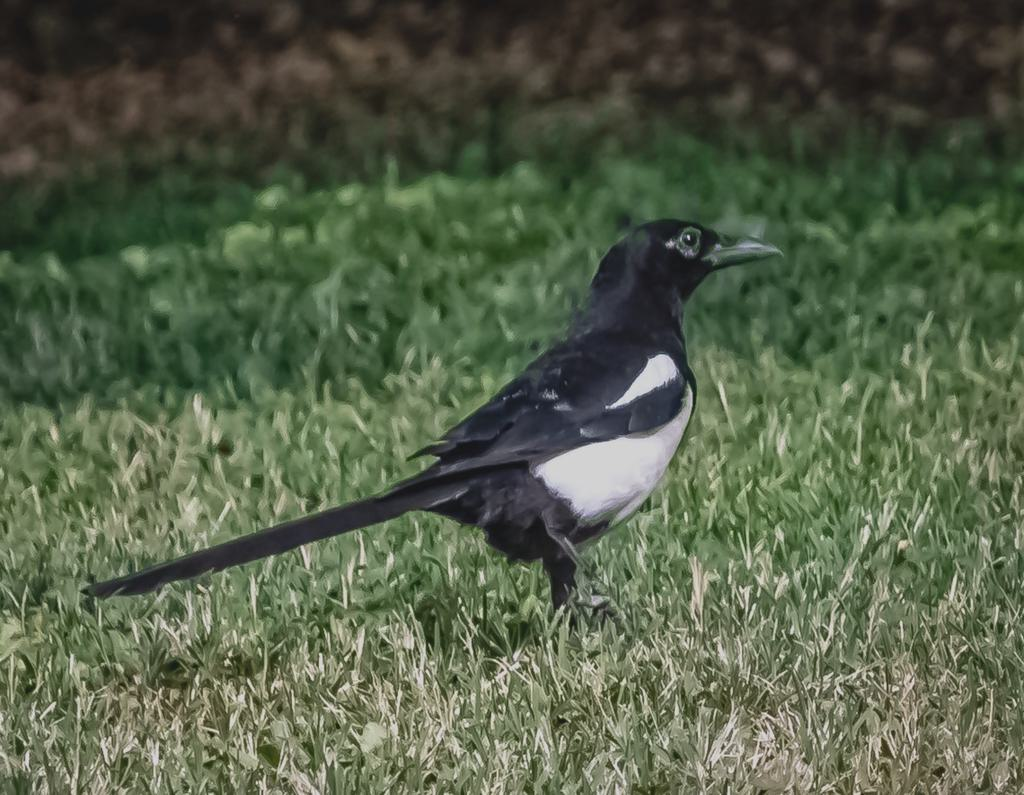PicaPica: (79, 216, 784, 614)
